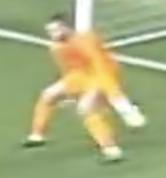goalkeeper: (16, 7, 155, 168)
